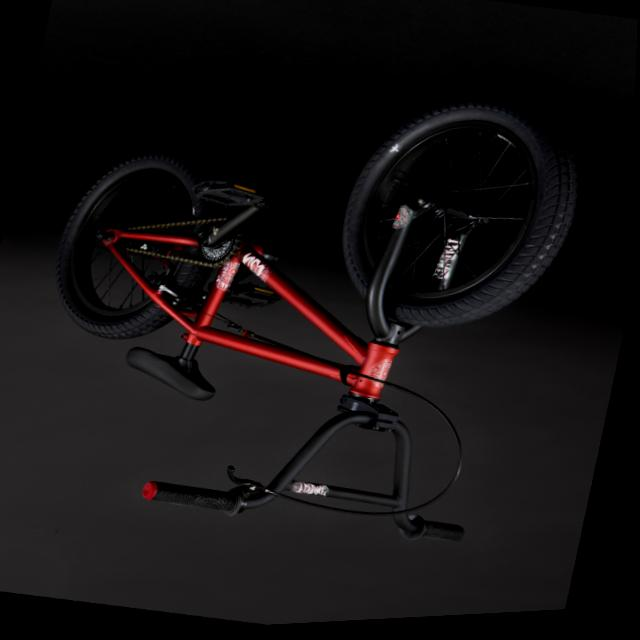bmx-bike: (2, 21, 608, 582)
